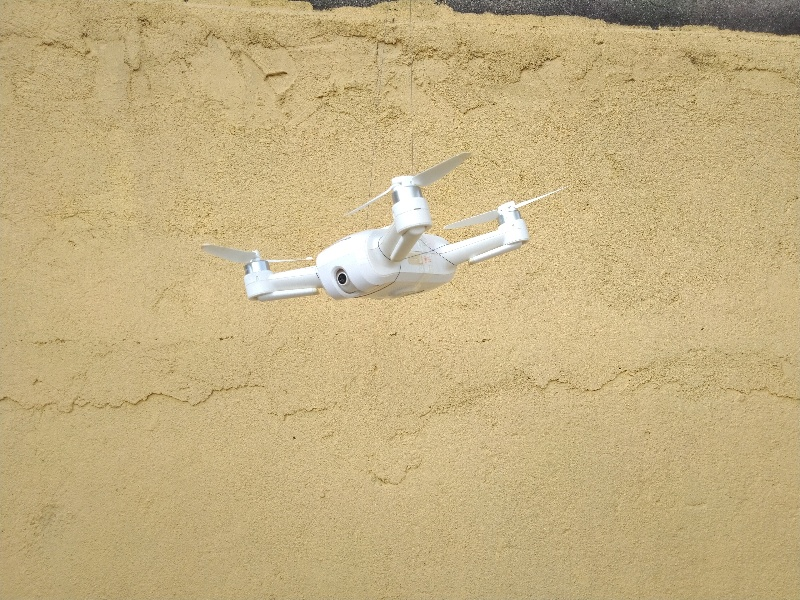drone: (203, 157, 545, 310)
